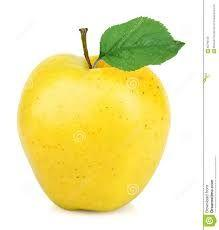Apple: (16, 54, 172, 209)
